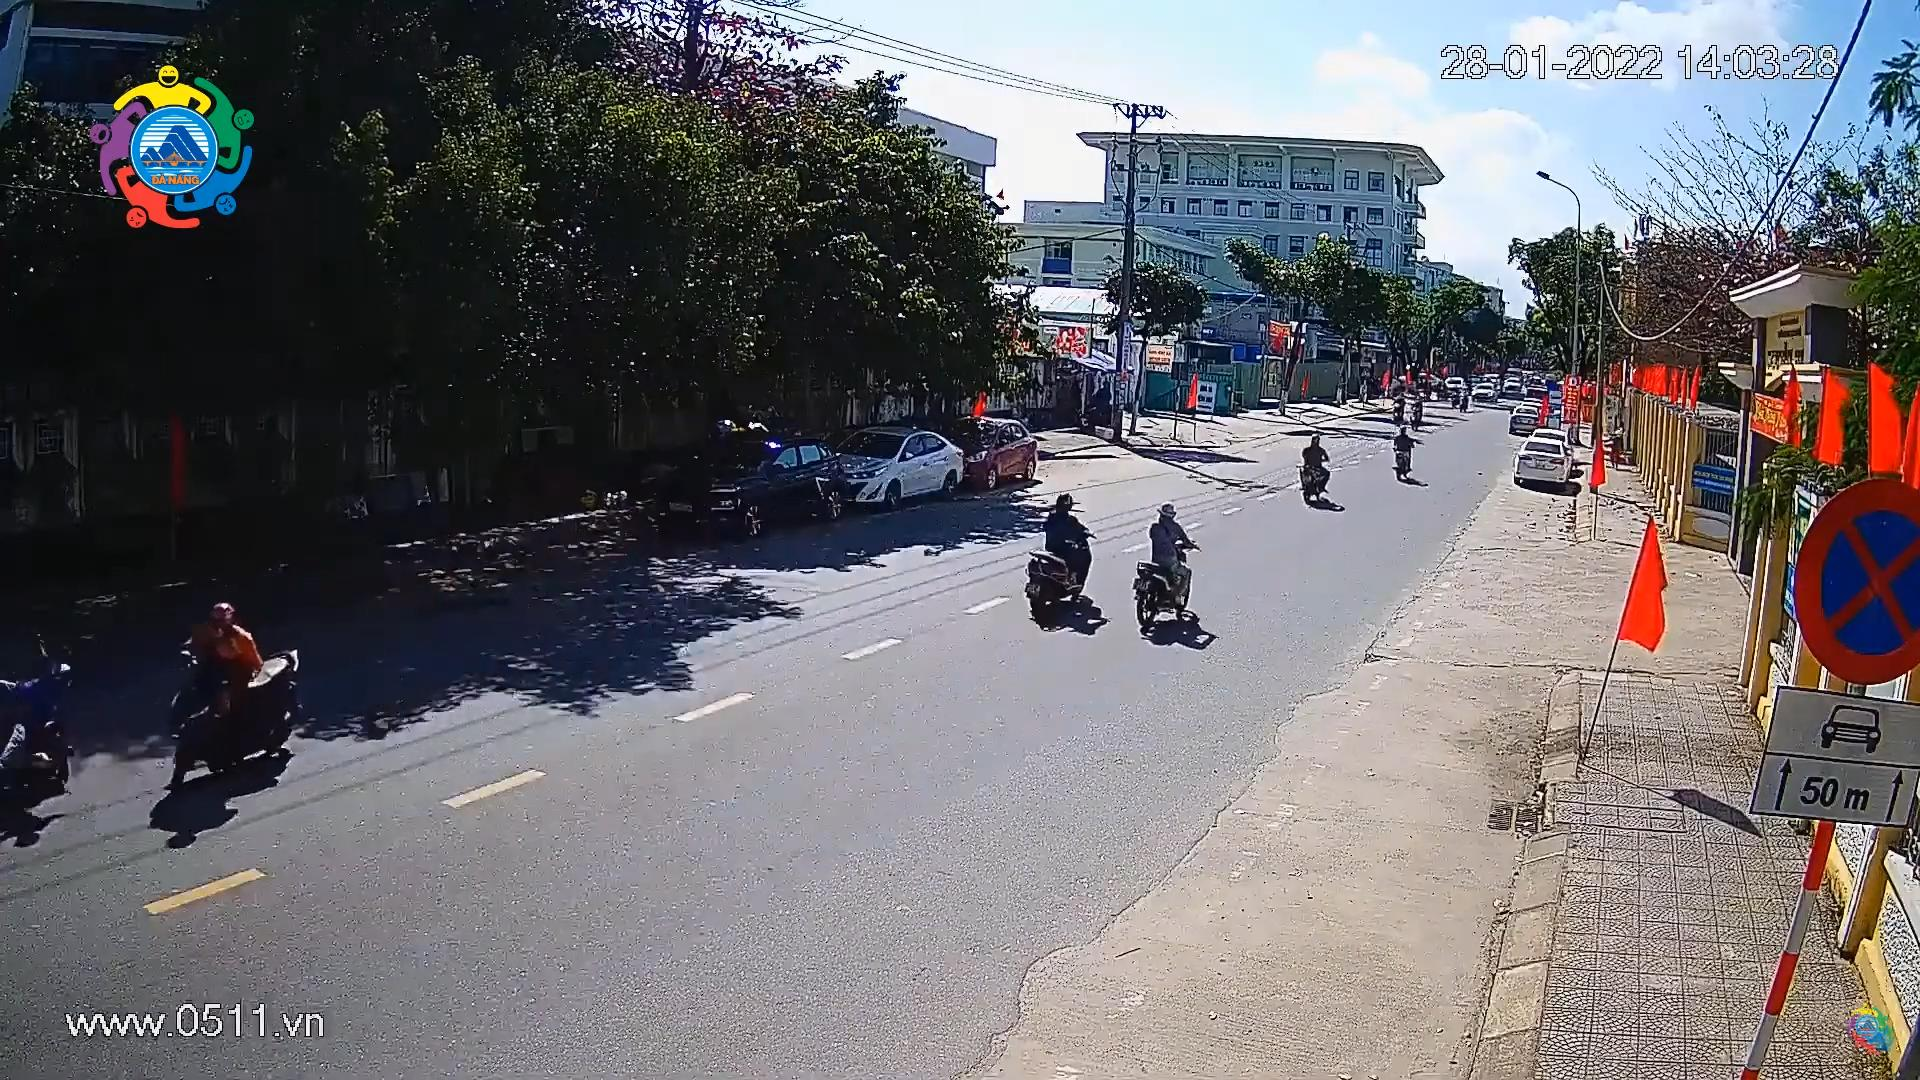accident: (0, 580, 345, 848), (0, 622, 109, 832)
car: (650, 429, 845, 541), (835, 423, 968, 506), (961, 410, 1039, 488), (1515, 433, 1571, 492), (1507, 401, 1540, 440), (1440, 375, 1468, 400), (1473, 381, 1499, 406)
motorcycle: (156, 599, 320, 785), (1118, 491, 1218, 630), (1019, 493, 1102, 629), (1295, 426, 1337, 518), (1385, 418, 1436, 485)
